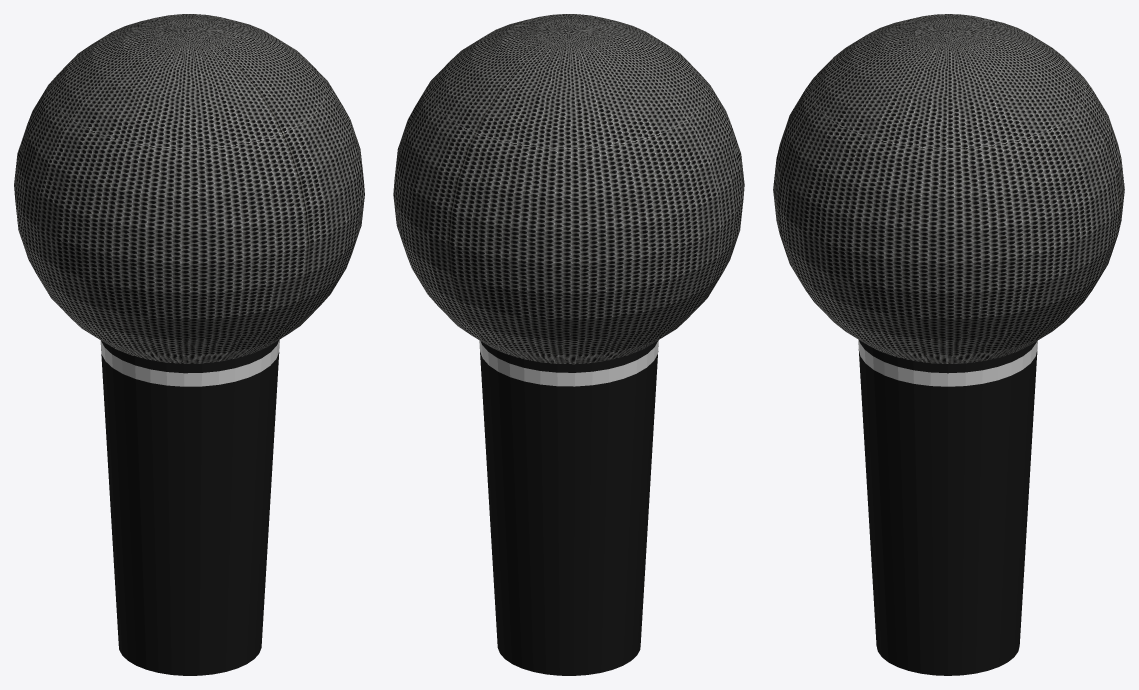
The model's file is Microfone.fbx.
3 renders of one model, left to right at view 1: azimuth 30°, elevation 25°; view 2: azimuth 150°, elevation 25°; view 3: azimuth 270°, elevation 25°, orthographic.
Parts seen in each view (by area): view 1: Cylinder; view 2: Cylinder; view 3: Cylinder.
Part boxes in pixels (x1,y1,x2,y2): Cylinder: (14, 14, 364, 675); Cylinder: (393, 14, 744, 675); Cylinder: (773, 14, 1124, 675).
Size of the model in its own units: 371 by 716 by 371.
